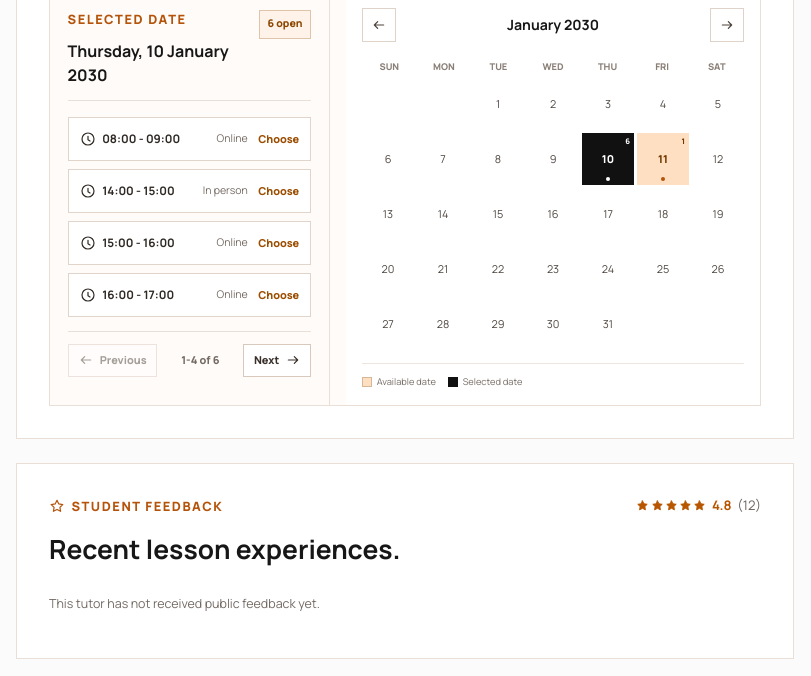
TutorDetailPage › keeps course content full width and presents interactive calendar availability
(page scrolled)
Expected: the text "6 open" is shown, x1=259 y1=10 x2=311 y2=38
Expected: the text "Choose" is shown 4 times, x1=258 y1=131 x2=299 y2=147; x1=258 y1=183 x2=299 y2=199; x1=258 y1=235 x2=299 y2=251; x1=258 y1=287 x2=299 y2=303
Click the button "Next" at (277, 360), box x1=243 y1=344 x2=311 y2=377
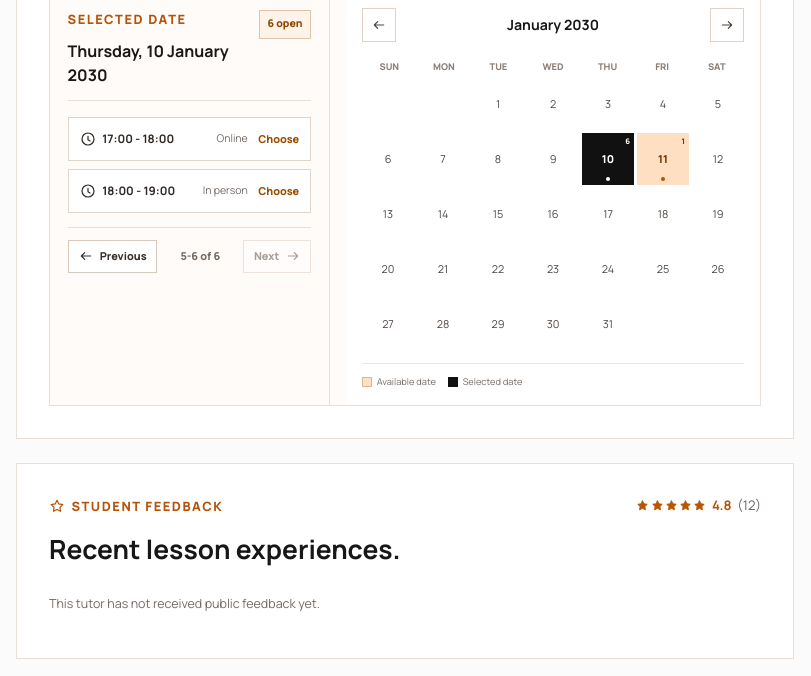
Result: the text "Choose" is shown 2 times at x1=258 y1=131 x2=299 y2=147; x1=258 y1=183 x2=299 y2=199
Result: the text "5-6 of 6" is shown at x1=180 y1=248 x2=220 y2=264
Result: the button "Next" is disabled at x1=243 y1=240 x2=311 y2=273
Click the button named "12 January 2030, no available lesson times" at (718, 159), box x1=692 y1=133 x2=744 y2=185
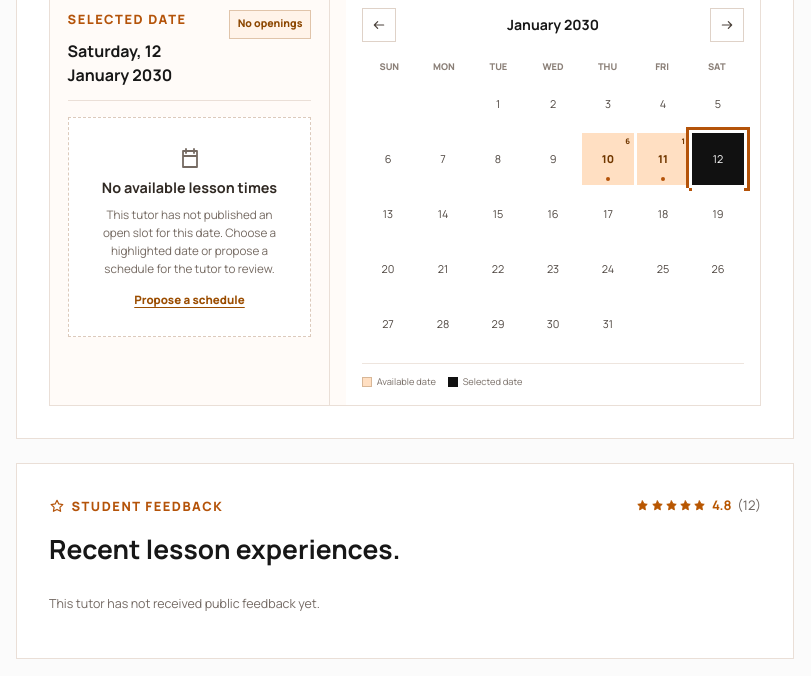
Result: the heading "No available lesson times" is shown at x1=102 y1=177 x2=277 y2=199
Result: the text "has not published an open slot for this date" is shown at x1=103 y1=207 x2=276 y2=277
Click the button named "10 January 2030, 6 available lesson times" at (608, 159), box x1=582 y1=133 x2=634 y2=185
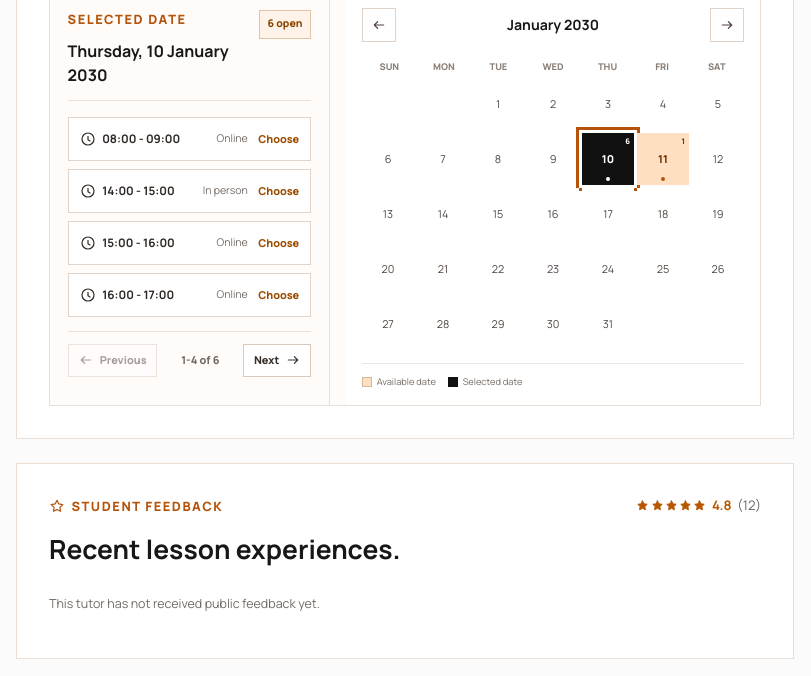
Result: the heading "No available lesson times" is gone
Result: the text "6 open" is shown at x1=259 y1=10 x2=311 y2=38
Result: the text "1-4 of 6" is shown at x1=181 y1=352 x2=220 y2=368
